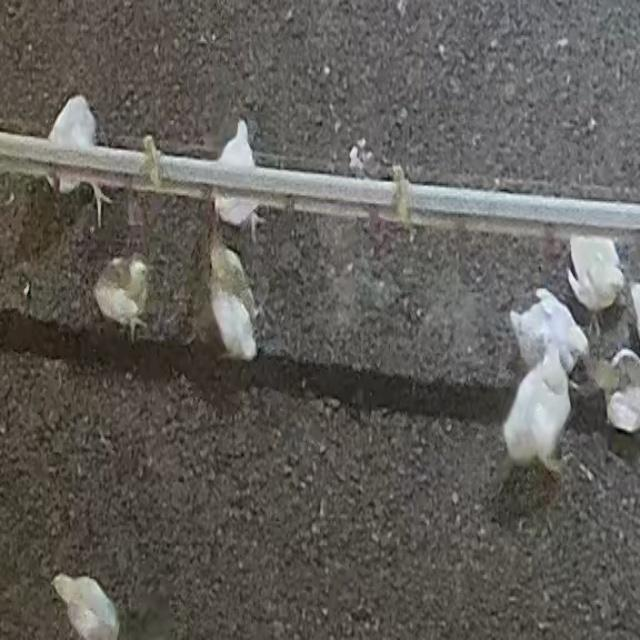chicken: (498, 345, 574, 475), (208, 114, 268, 232), (44, 565, 130, 640), (92, 250, 154, 343)
